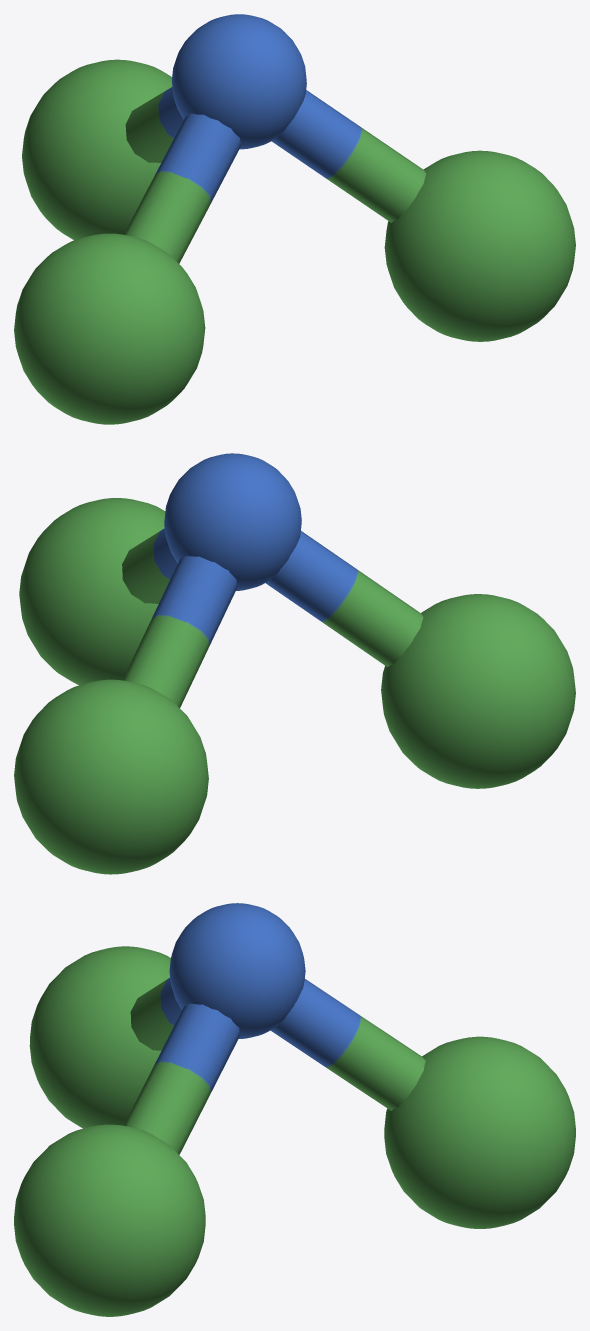
The picture shows the model from 3 angles, top to bottom: view 1: azimuth 30°, elevation 25°; view 2: azimuth 150°, elevation 25°; view 3: azimuth 270°, elevation 25°; orthographic projection.
Parts seen in each view (by area): view 1: 对象005; view 2: 对象005; view 3: 对象005.
Part boxes in pixels (x1,y1,x2,y2): 对象005: (14, 14, 575, 424); 对象005: (14, 453, 575, 874); 对象005: (14, 903, 575, 1316).
Size of the model in its own units: 63.06 by 35.32 by 57.78.
